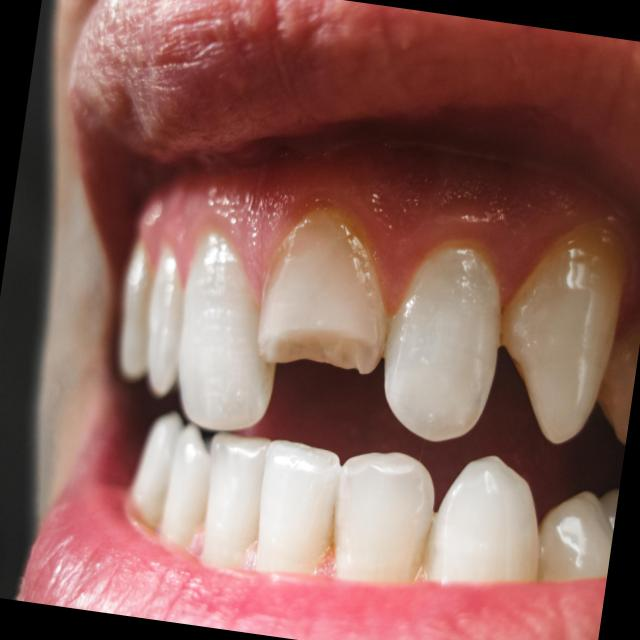Cavity: (259, 327, 378, 375)
Tooth: (501, 222, 629, 445), (383, 247, 501, 442), (259, 207, 387, 375), (177, 228, 275, 432), (423, 455, 538, 581), (332, 452, 434, 581), (256, 439, 342, 575), (200, 431, 272, 569), (161, 423, 210, 548), (149, 240, 184, 390)
